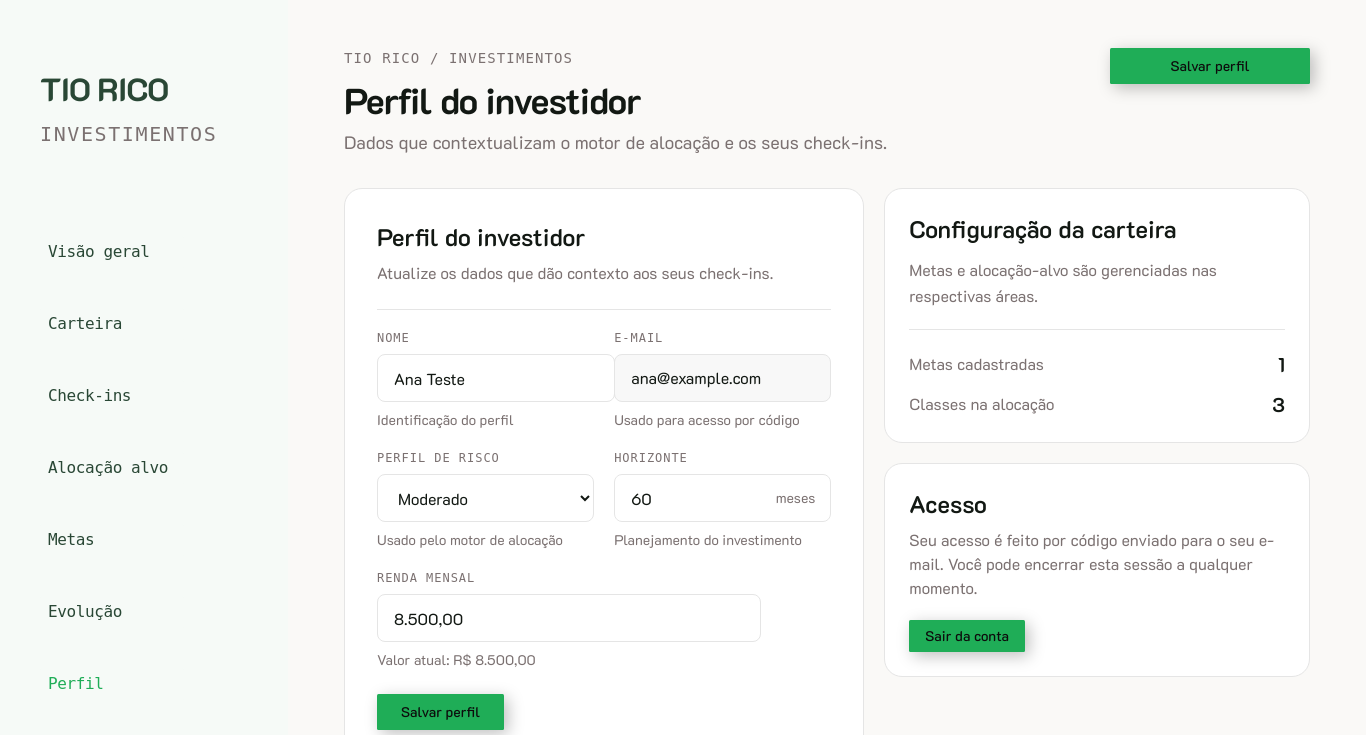
Scenario: Profile (perfil) › não envia e avisa quando a renda é inválida
Replace the text in the field labelled "Renda mensal" with "-5" at (569, 618), box [377,594,761,642]
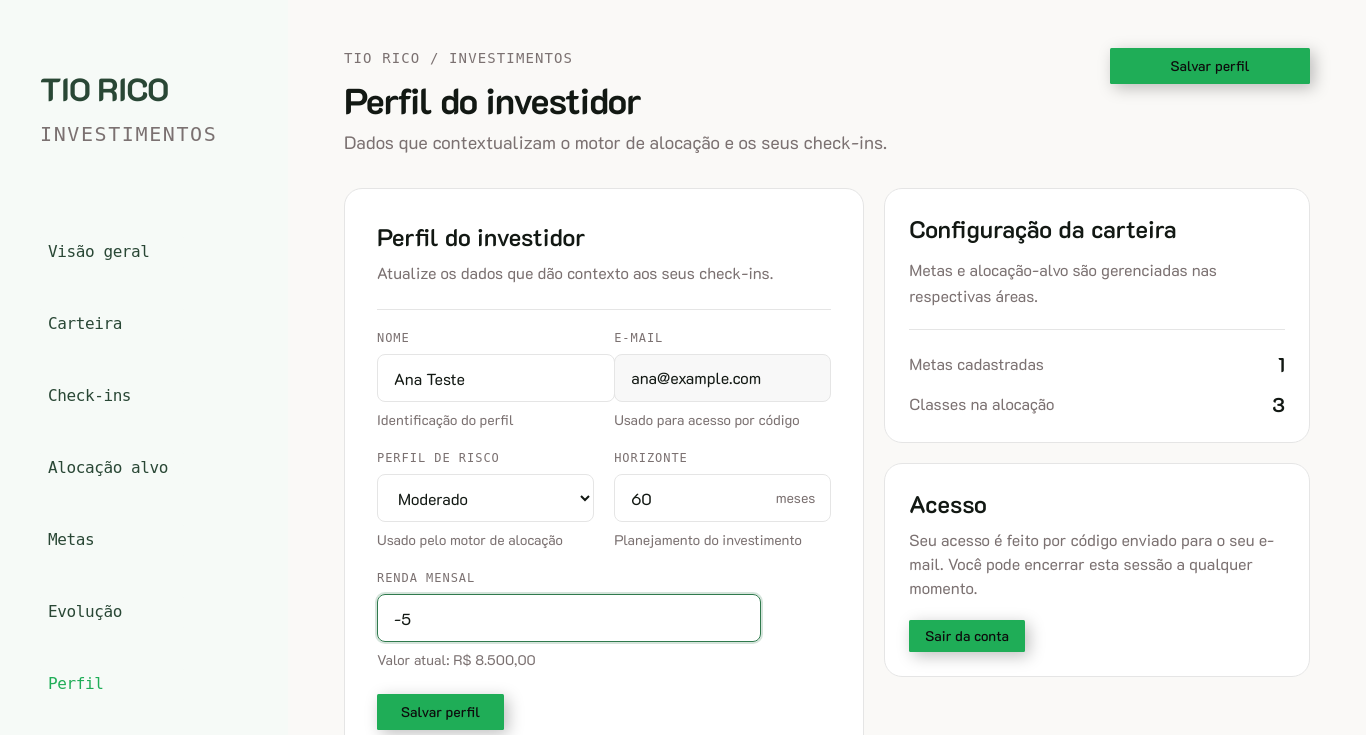
Click the button "Salvar perfil" in the row of "TIO RICO / INVESTIMENTOS" at (1210, 66), box [1110,48,1310,84]
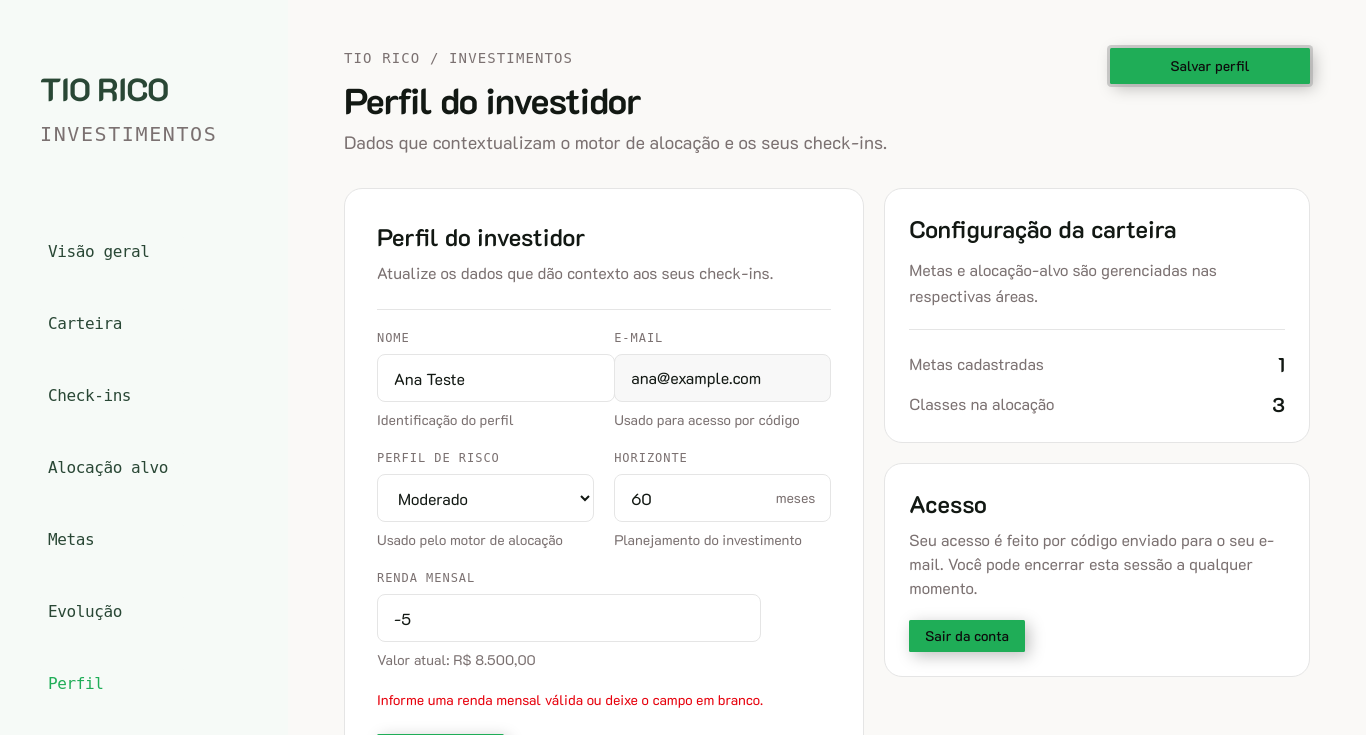
Expected: the text "Informe uma renda mensal válida ou deixe o campo em branco." is shown, [377,690,763,709]
